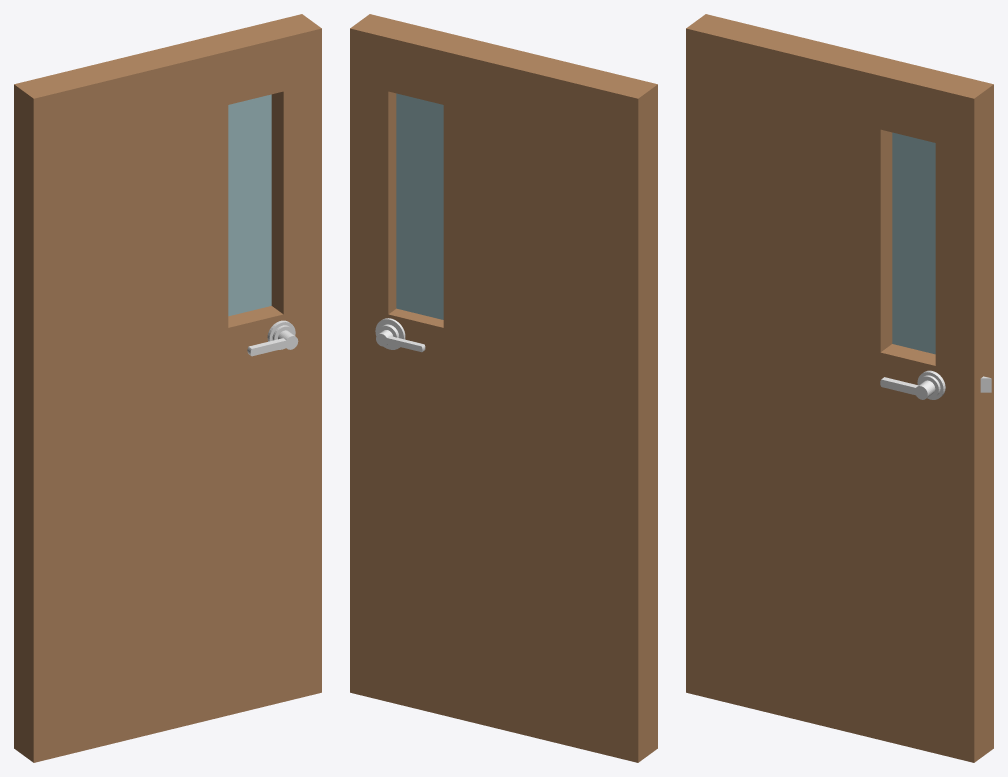
File: Door Low poly 1.fbx
3 views of the same model, side by side, from view 1: azimuth 30°, elevation 25°; view 2: azimuth 150°, elevation 25°; view 3: azimuth 330°, elevation 25° (orthographic).
Visible parts, largest first — view 1: Cube; view 2: Cube; view 3: Cube.
Boxes of the visible parts, <box> form: Cube: <box>14,14,321,762</box>; Cube: <box>350,14,657,762</box>; Cube: <box>686,14,993,762</box>.
Size of the model in its own units: 567 by 1216 by 135.
